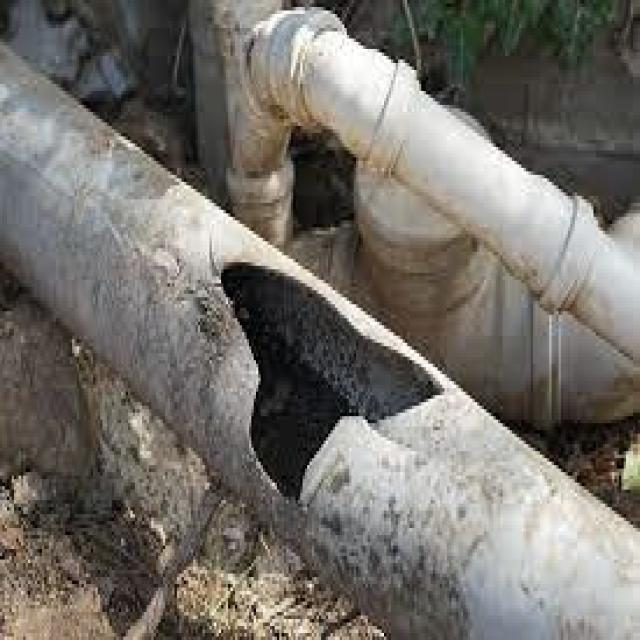hole: (222, 260, 452, 496)
